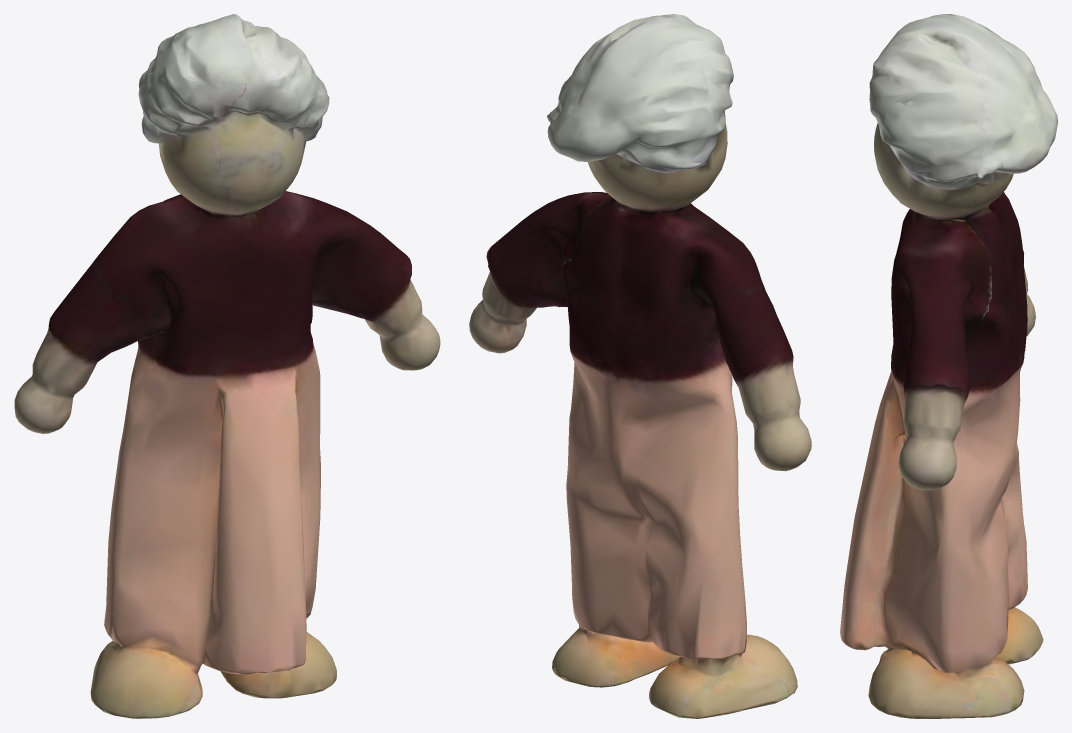
The model's file is GRANDMOTHER-high.glb.
The picture shows the model from 3 angles, left to right: view 1: azimuth 30°, elevation 25°; view 2: azimuth 150°, elevation 25°; view 3: azimuth 270°, elevation 25°; orthographic projection.
Parts seen in each view (by area): view 1: GRANDMOTHER; view 2: GRANDMOTHER; view 3: GRANDMOTHER.
Boxes of the visible parts, x1,y1,x2,y2 form: GRANDMOTHER: (14, 14, 440, 718); GRANDMOTHER: (469, 14, 811, 718); GRANDMOTHER: (840, 14, 1057, 718).
Size of the model in its own units: 0.0769 by 0.1268 by 0.0384.
1 material, 1 textured.
